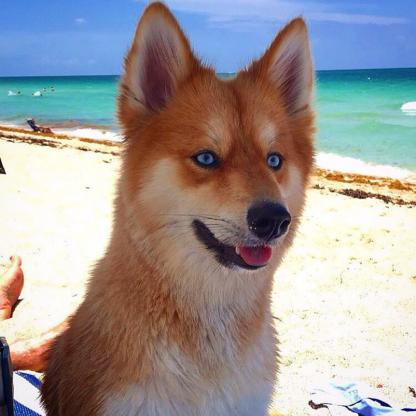husky: (44, 1, 321, 416)
